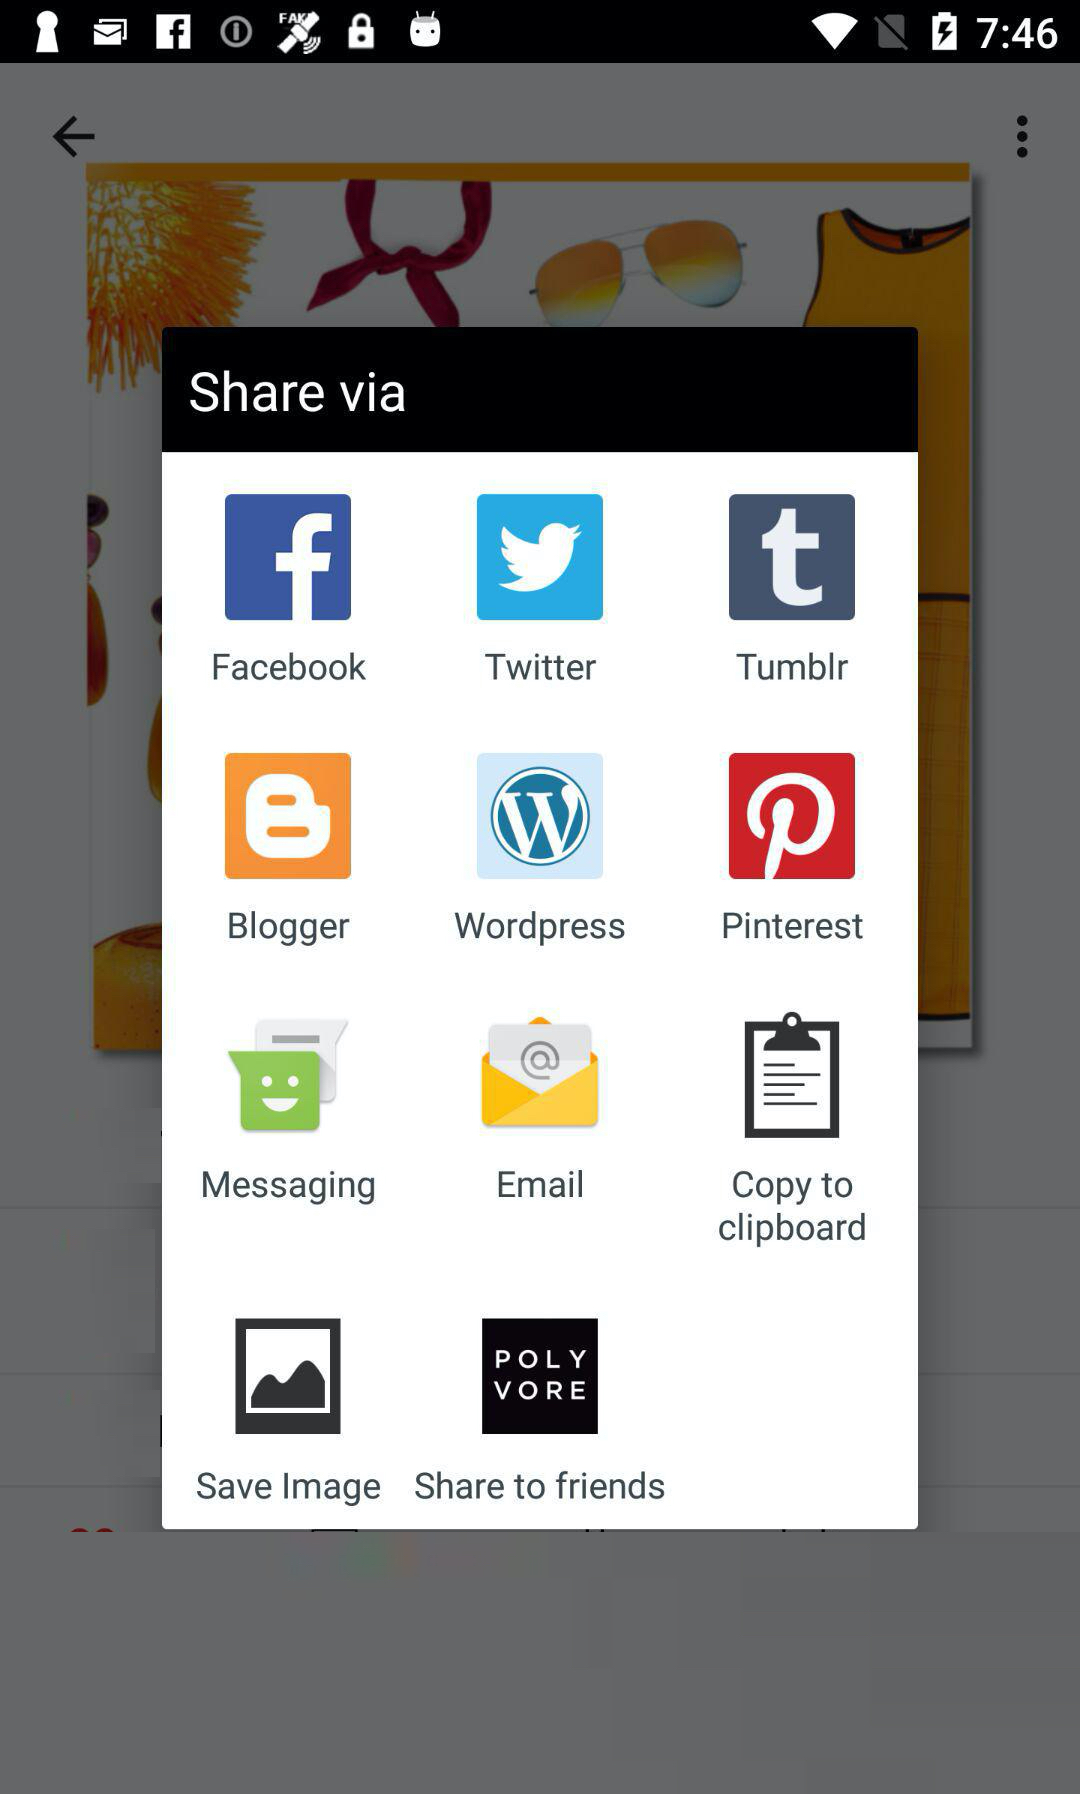Icon: (477, 495, 603, 621), (225, 495, 352, 620), (744, 1012, 840, 1138), (53, 117, 97, 160), (1016, 115, 1029, 160)
Image: (729, 753, 856, 880), (225, 753, 352, 879), (729, 495, 856, 620), (478, 753, 603, 879), (229, 1017, 352, 1132), (482, 1319, 600, 1434), (234, 1317, 343, 1435), (482, 1016, 600, 1125)
Modal: (161, 328, 919, 1530)
Text: (717, 1173, 866, 1248), (190, 372, 405, 414), (414, 1470, 665, 1501), (197, 1471, 382, 1507), (202, 1170, 375, 1207), (455, 910, 626, 947), (214, 651, 366, 682), (229, 910, 351, 947), (723, 911, 863, 939), (486, 652, 596, 682), (737, 652, 848, 680), (498, 1169, 584, 1199)
UpperTaskBar: (1, 1, 1080, 64)
